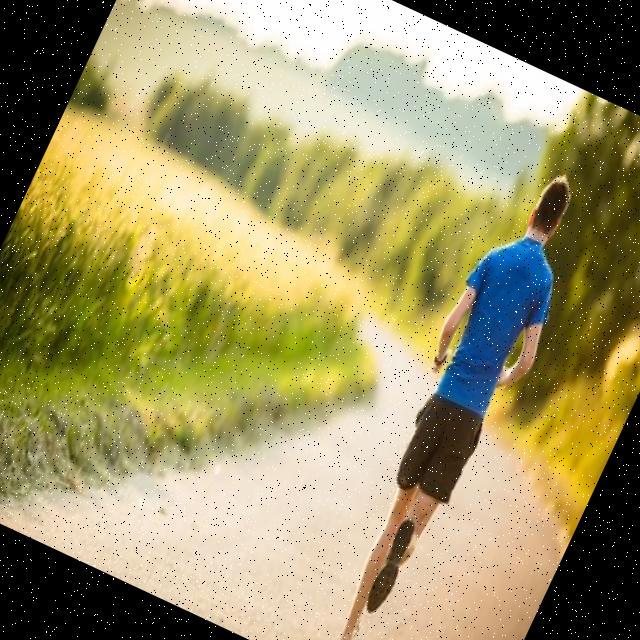Person: (288, 155, 611, 640)
